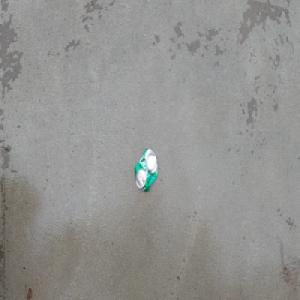SodaCan: (133, 146, 158, 194)
